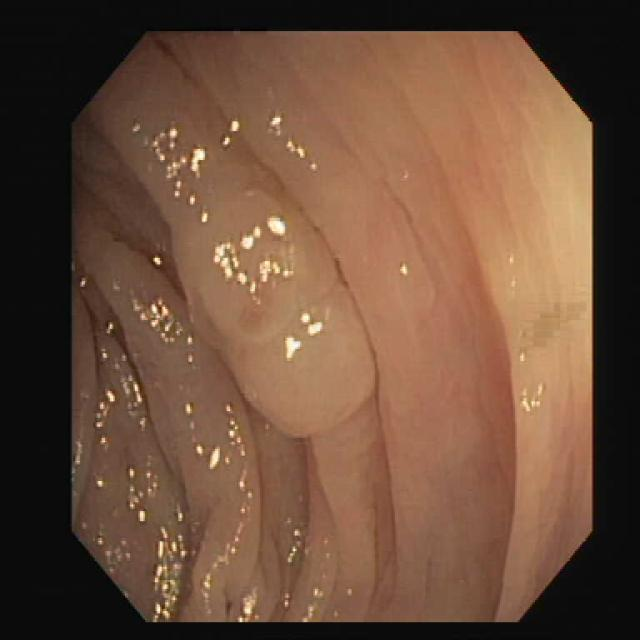tumor: (168, 162, 375, 436)
